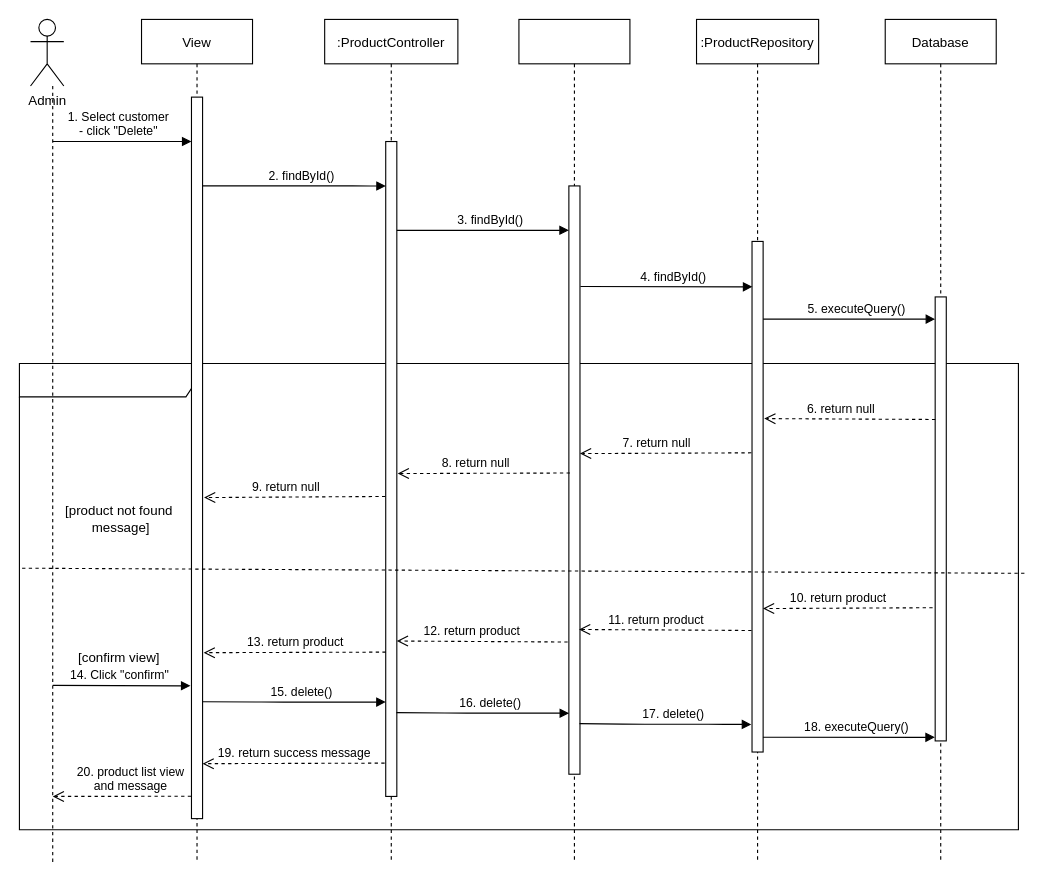
The diagram is 1046 pixels wide and 886 high, and some of its shapes have lost their labels. The box of each missing label's shape, as (x1, y1, x2, y2) in pixels:
:ProductService: (518, 18, 630, 863)
alt find product by id: (18, 362, 1018, 830)
